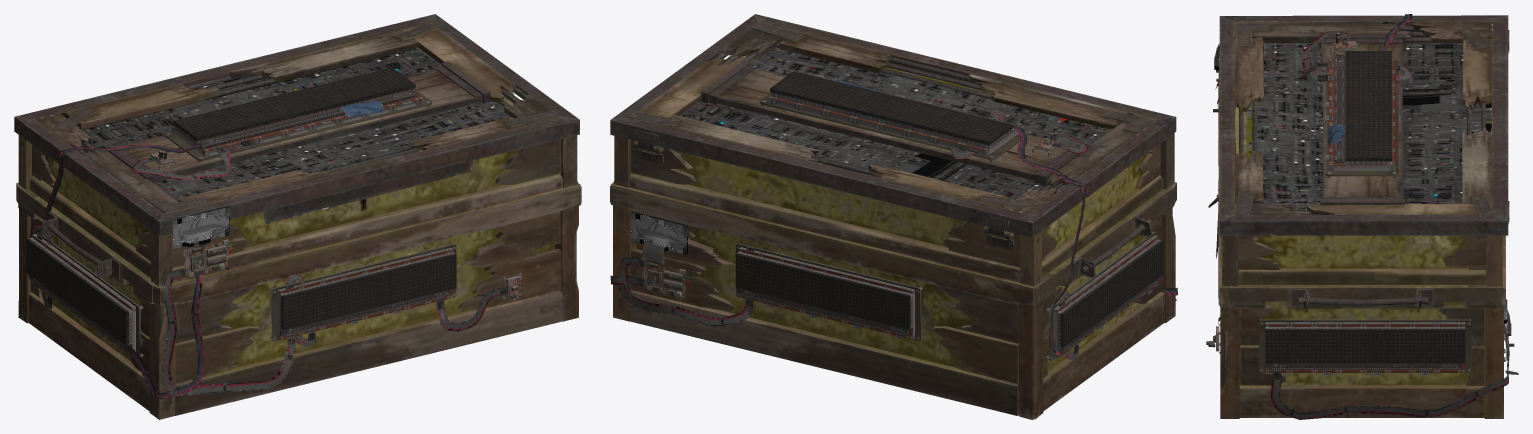
The model's file is component.box.sulfur.large.glb.
3 renders of one model, left to right at view 1: azimuth 30°, elevation 25°; view 2: azimuth 150°, elevation 25°; view 3: azimuth 270°, elevation 25°, orthographic.
Visible parts, largest first — view 1: component_box_sulfur, matrix_display_sulfur, matrix_display_sulfur_top; view 2: component_box_sulfur, matrix_display_sulfur, matrix_display_sulfur_top; view 3: component_box_sulfur, matrix_display_sulfur, matrix_display_sulfur_top.
Boxes of the visible parts, bbox=[...] form: component_box_sulfur: bbox=[14, 14, 581, 419]; matrix_display_sulfur: bbox=[26, 205, 521, 413]; matrix_display_sulfur_top: bbox=[28, 67, 431, 278]; component_box_sulfur: bbox=[610, 14, 1176, 419]; matrix_display_sulfur: bbox=[610, 211, 1177, 361]; matrix_display_sulfur_top: bbox=[760, 71, 1087, 354]; component_box_sulfur: bbox=[1218, 15, 1509, 418]; matrix_display_sulfur: bbox=[1206, 43, 1518, 419]; matrix_display_sulfur_top: bbox=[1300, 14, 1412, 177].
Size of the model in its own units: 1.87 by 0.8329 by 1.11.
2 materials, 2 textured.
